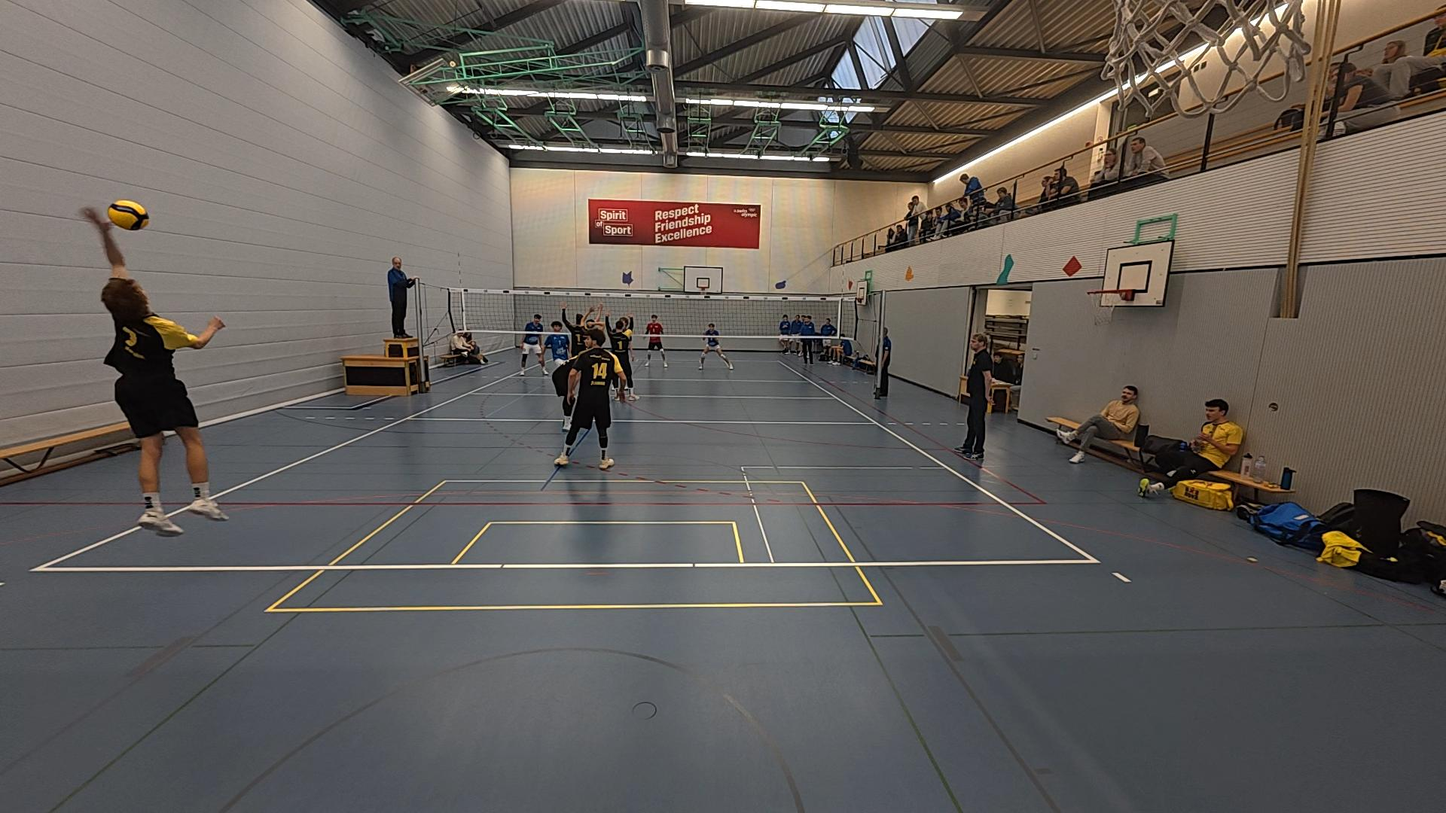Player: (554, 335, 624, 470), (552, 338, 581, 434), (560, 302, 603, 361), (540, 319, 573, 395), (608, 314, 636, 400), (517, 313, 545, 377), (697, 321, 734, 369), (640, 314, 669, 366), (577, 304, 606, 352), (776, 313, 798, 359)
Serve: (78, 204, 233, 537)
ball: (105, 199, 149, 231), (901, 264, 917, 281)
